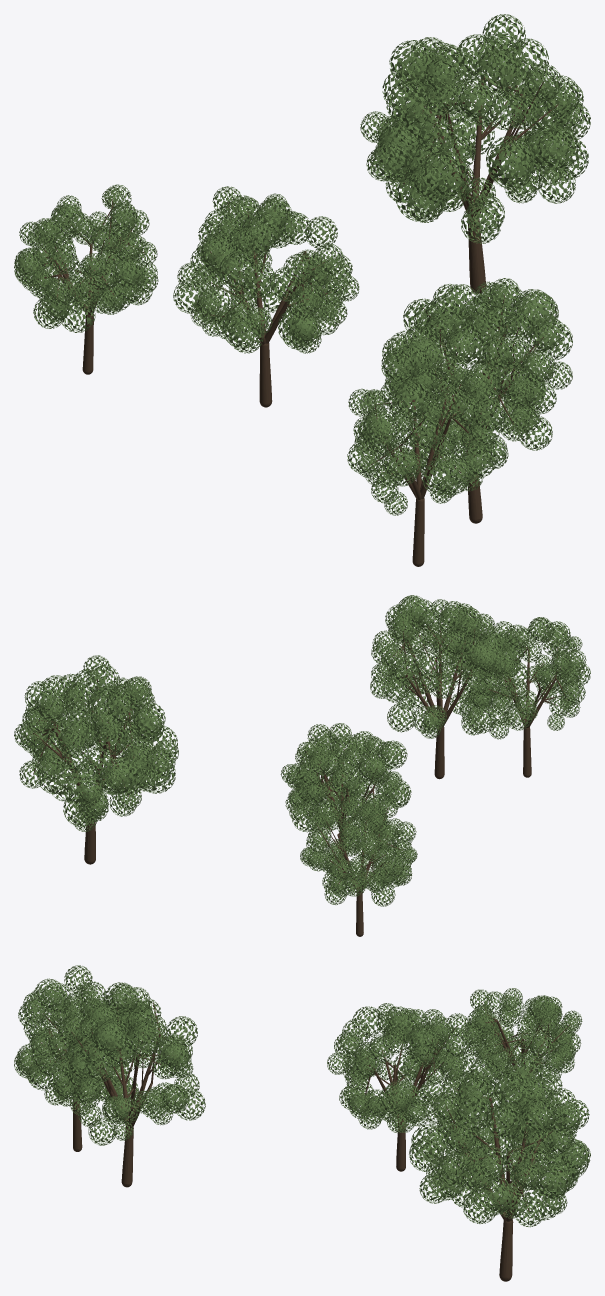
File: baeume.glb
3 views of the same model, one above another, from view 1: azimuth 30°, elevation 25°; view 2: azimuth 150°, elevation 25°; view 3: azimuth 270°, elevation 25° (orthographic). The views are drawn at different scales.
Visible parts, largest first — view 1: baeume; view 2: baeume; view 3: baeume.
Part boxes in pixels (x1=…): baeume: x1=14, y1=14, x2=590, y2=566; baeume: x1=14, y1=595, x2=590, y2=936; baeume: x1=14, y1=965, x2=590, y2=1281.
Bounding box in the file's own units: 26.25 × 11.89 × 30.32.
